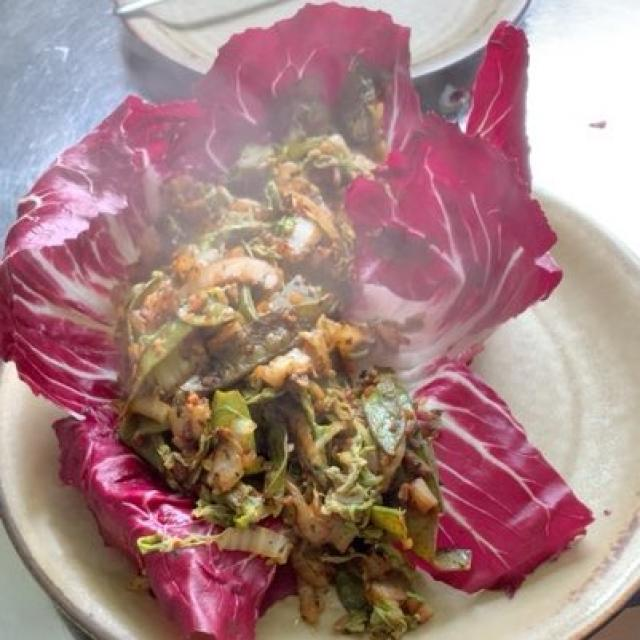vegetables: (116, 132, 444, 596)
